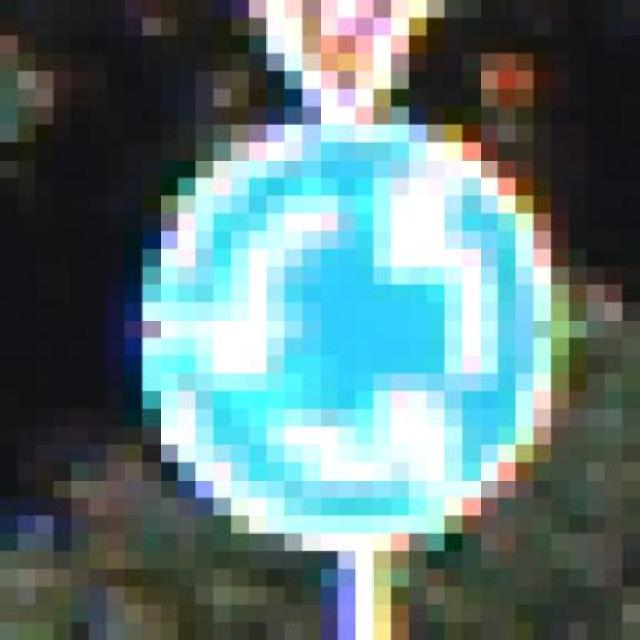Round-About: (124, 89, 587, 569)
